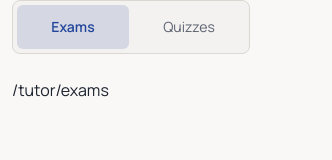
Test: Practice library switcher › opens both libraries under the shared destination (tutor=true)
The width and height of the screenshot is (332, 160).
What coordinates should you click on to do the following:
click the button "Quizzes"
I would click on:
 (189, 27)
Its box is [133,5,245,49].
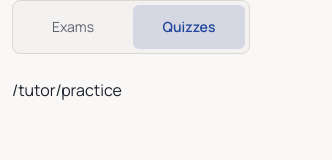
Expected: the text named "path" reads "/tutor/practice", [12,79,122,101]
What coordinates should you click on to do the following:
click the button "Exams"
I would click on:
 (73, 27)
Its box is [17,5,129,49].
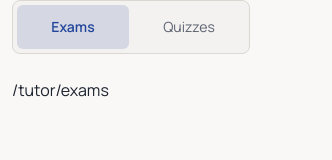
Expected: the text named "path" reads "/tutor/exams", [12,79,109,101]
